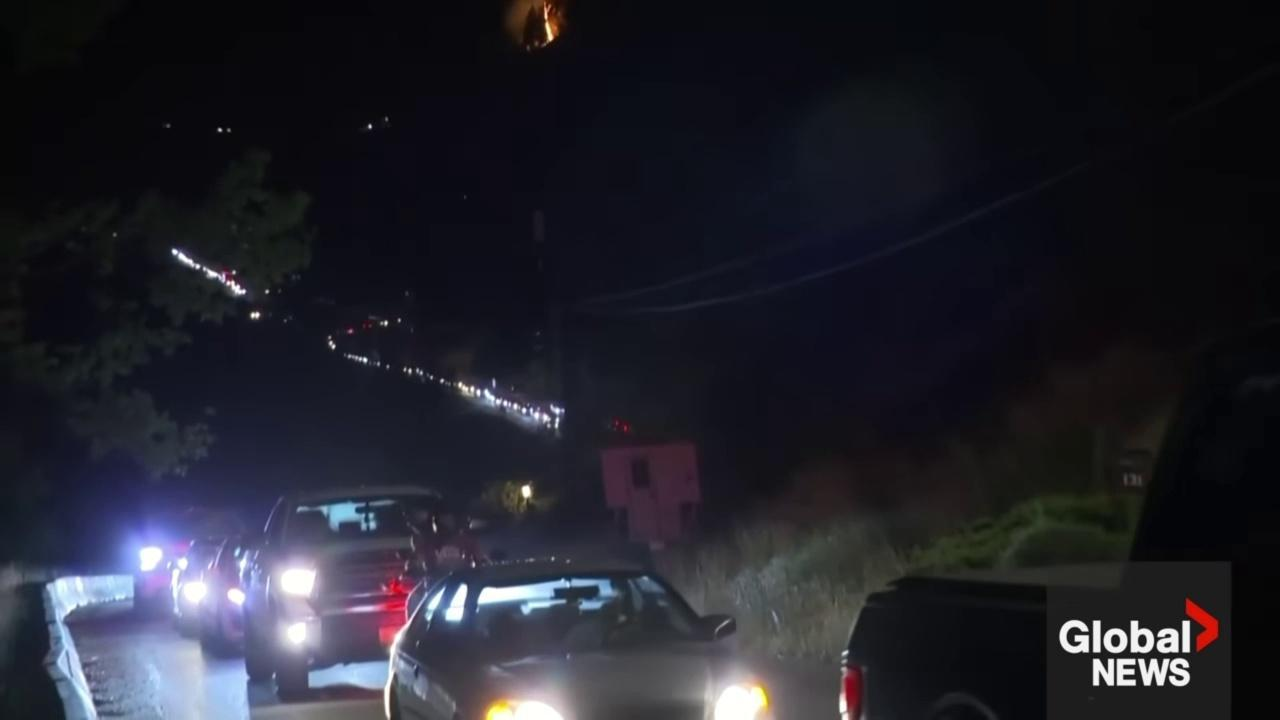fire: (544, 0, 559, 46)
smoke: (504, 0, 544, 53)
